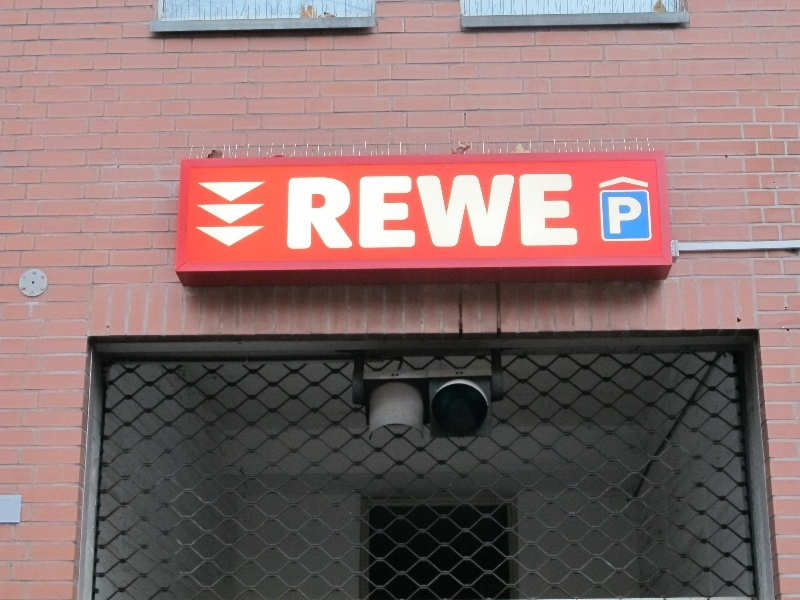text: (289, 170, 304, 252), (305, 170, 320, 252), (321, 170, 336, 252), (337, 170, 352, 252), (353, 170, 368, 252), (369, 170, 384, 252), (385, 170, 400, 252), (401, 170, 416, 252), (417, 170, 432, 252), (433, 170, 448, 252), (449, 170, 464, 252), (465, 170, 480, 252), (481, 170, 496, 252), (497, 170, 512, 252), (513, 170, 528, 252), (529, 170, 544, 252), (545, 170, 560, 252), (561, 170, 576, 252), (609, 195, 624, 236), (625, 195, 640, 236), (285, 170, 288, 252), (577, 170, 579, 252), (641, 195, 645, 236)
